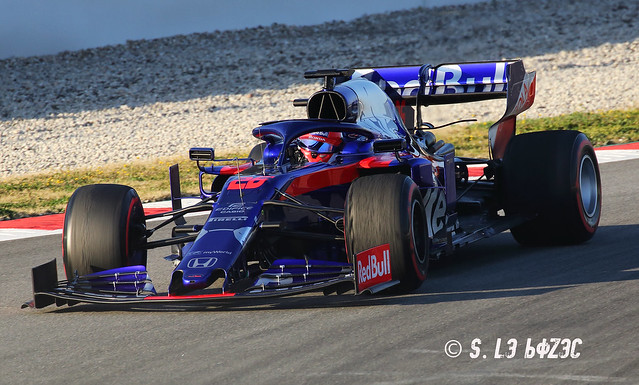F1 Car: (28, 57, 610, 314)
